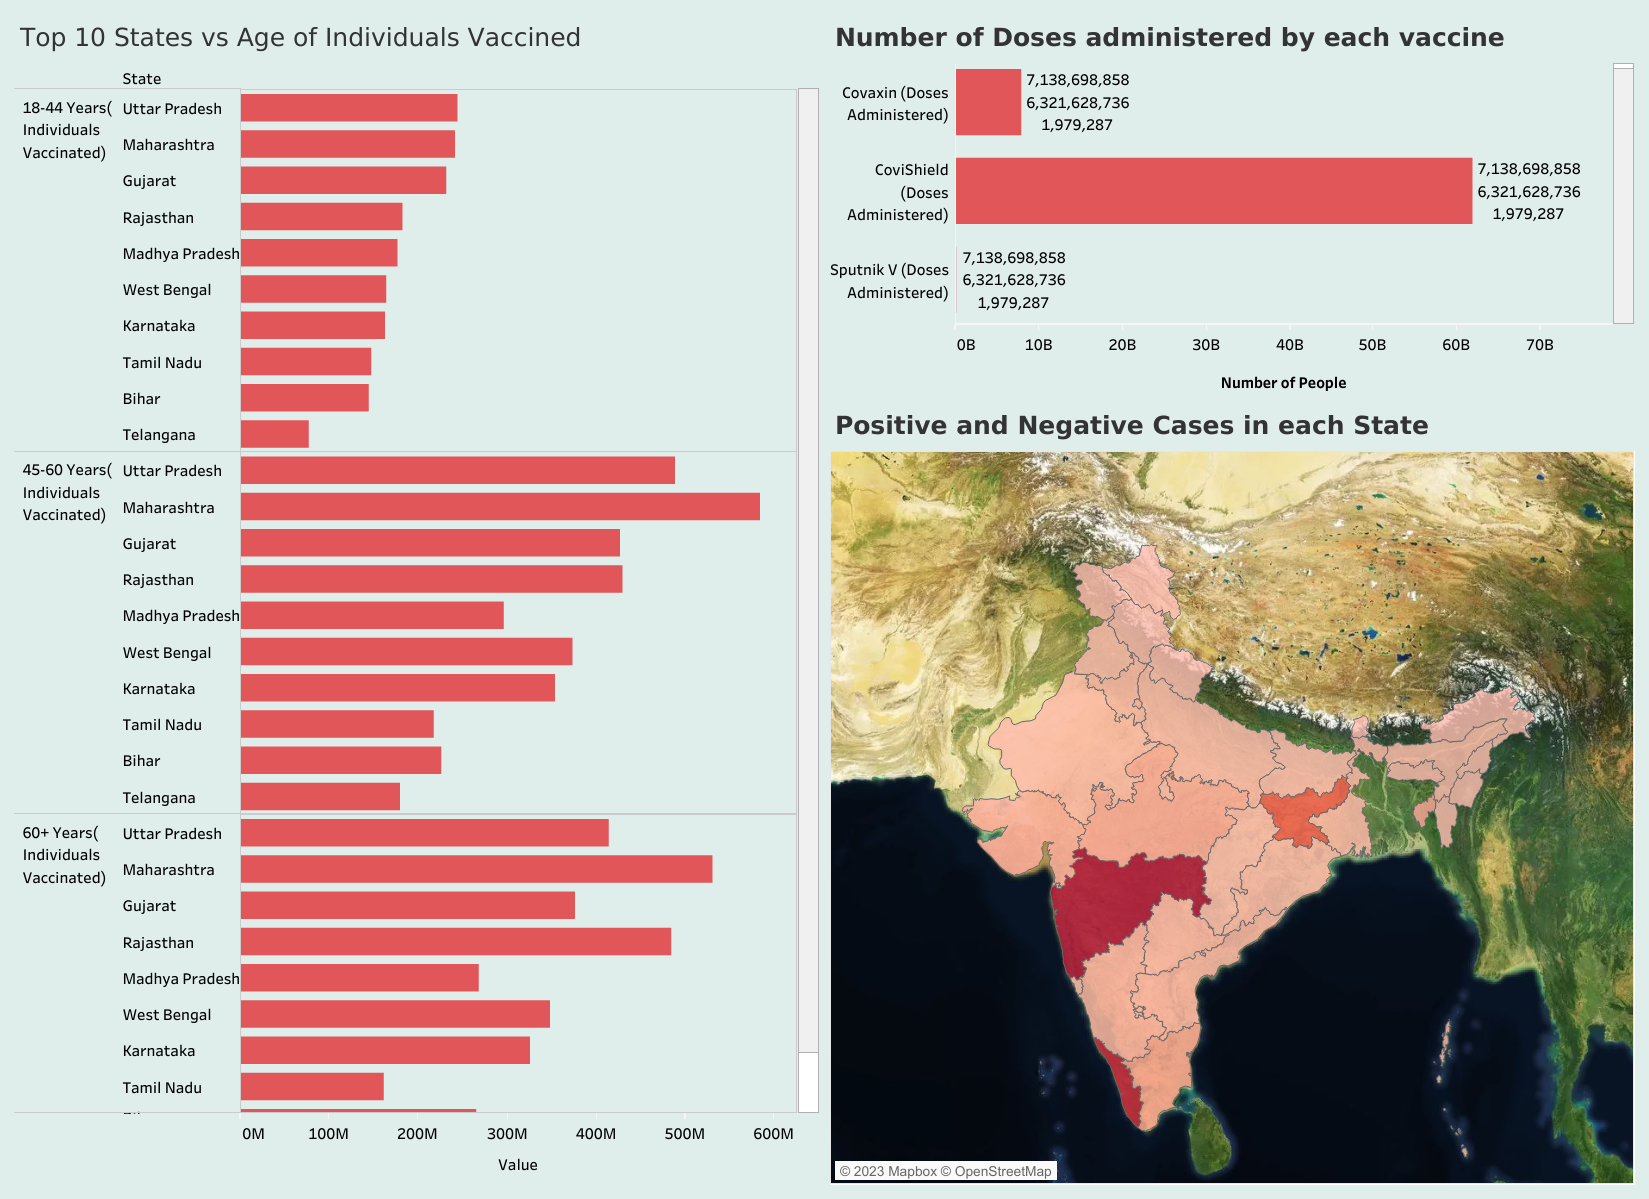

The page's visual inventory and layout, read from the dashboard file:
{"tool":"tableau","page":{"name":"Dashboard 1","canvas":[1320,960],"ordinal":0},"visuals":[{"type":"worksheet","title":"Top 10 States vs Age of Individuals Vaccined","mark":"Bar","rows":["State"],"box":[8,8,652,944]},{"type":"worksheet","title":"Doses Administered","mark":"Automatic","box":[660,8,652,310]},{"type":"worksheet","title":"Positive and Negative Cases in each State","mark":"Multipolygon","box":[660,318,652,634]}]}

Visuals, with their boxes in screenshot pixels (x1, y1, x2, y2), scaled from the page's 1320x960 canvas onto the 1649x1199 screenshot:
"Top 10 States vs Age of Individuals Vaccined" worksheet (Bar marks): left=10, top=10, right=824, bottom=1189
"Doses Administered" worksheet: left=824, top=10, right=1639, bottom=397
"Positive and Negative Cases in each State" worksheet (Multipolygon marks): left=824, top=397, right=1639, bottom=1189
